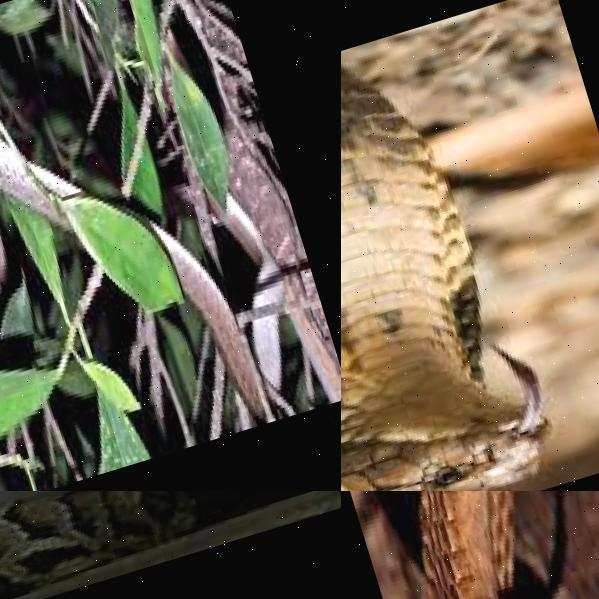1: (353, 491, 599, 599)
2: (0, 0, 341, 491)
5: (341, 16, 590, 491)
snake: (0, 491, 341, 599)
